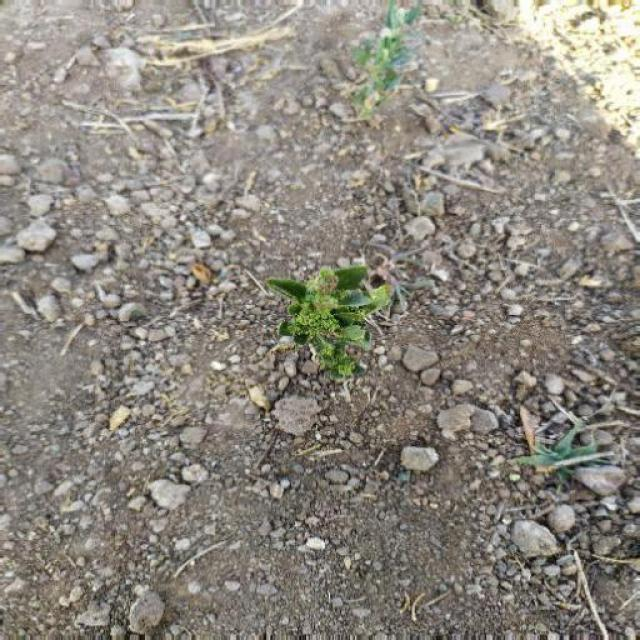weed: (270, 266, 380, 375), (348, 1, 430, 124)
